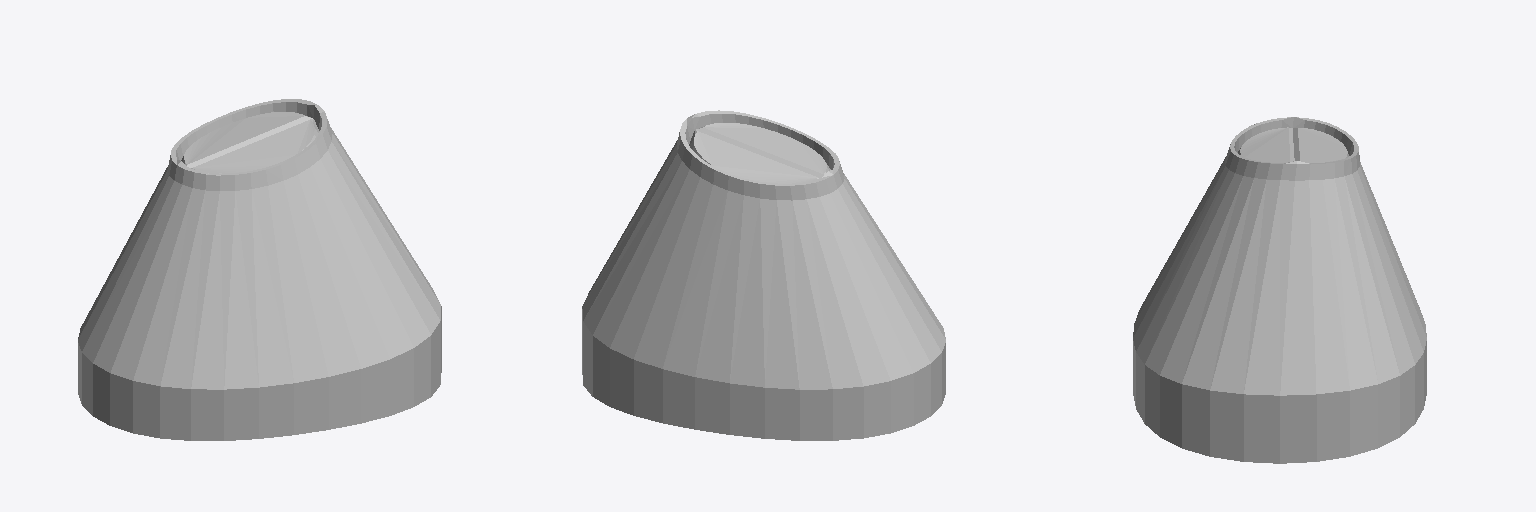
The model's file is barnacle.obj.
3 views of the same model, side by side, from view 1: azimuth 30°, elevation 25°; view 2: azimuth 150°, elevation 25°; view 3: azimuth 270°, elevation 25° (orthographic).
Visible parts, largest first — view 1: Cylinder; view 2: Cylinder; view 3: Cylinder.
Part boxes in pixels (bbox=[...]): Cylinder: bbox=[78, 99, 441, 440]; Cylinder: bbox=[582, 110, 945, 440]; Cylinder: bbox=[1133, 117, 1426, 463].
Size of the model in its own units: 2.26 by 1.7 by 1.76.